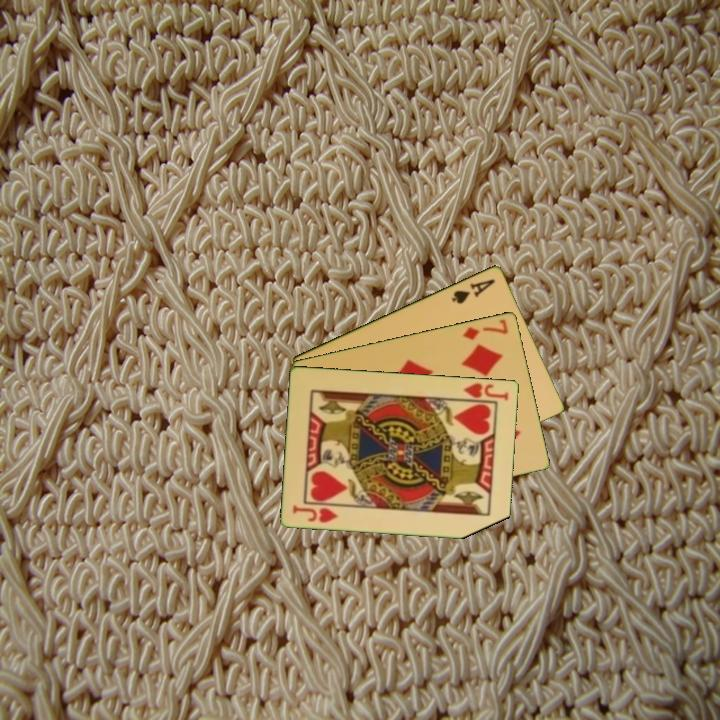7d: (459, 315, 511, 343)
As: (448, 275, 498, 307)
Jh: (289, 501, 341, 525), (461, 379, 511, 403)
